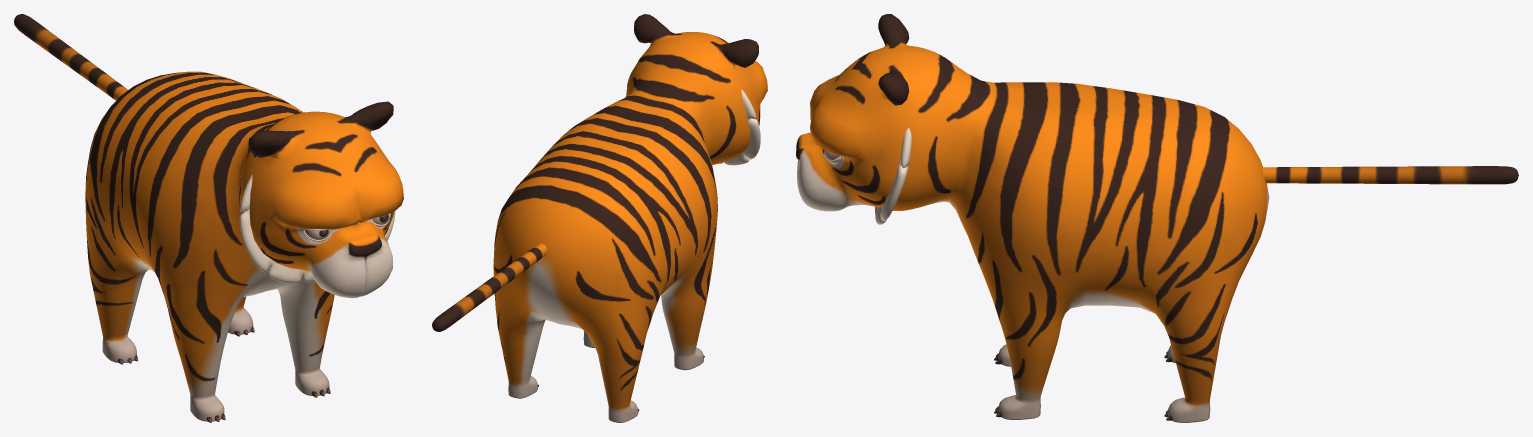
Rendered from tiger.FBX.
The picture shows the model from 3 angles, left to right: view 1: azimuth 30°, elevation 25°; view 2: azimuth 150°, elevation 25°; view 3: azimuth 270°, elevation 25°; orthographic projection. The views are drawn at different scales.
Visible parts, largest first — view 1: tiger; view 2: tiger; view 3: tiger.
Part boxes in pixels (<box>): tiger: <box>14,14,403,421</box>; tiger: <box>432,14,767,422</box>; tiger: <box>796,14,1518,422</box>.
Bounding box in the file's own units: 38.31 × 64.97 × 124.
1 material, 1 textured.
